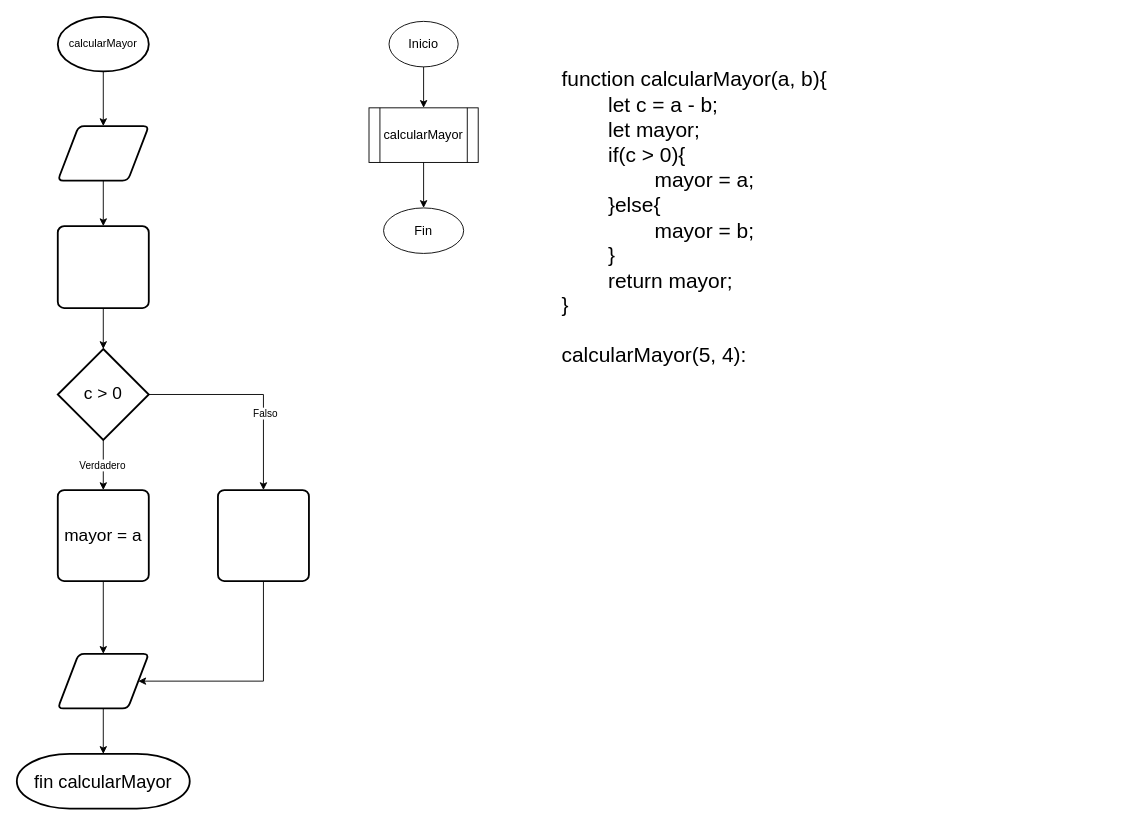
This 1130x824 diagram has some shape labels left out. Here are the shapes that lost their labels. From the top down, the centre of each, then its label:
At point 102,153: "entradas: a (número) b (número)".
At point 102,266: "c = a - b".
At point 263,535: "mayor = b".
At point 102,680: "salida mayor".
